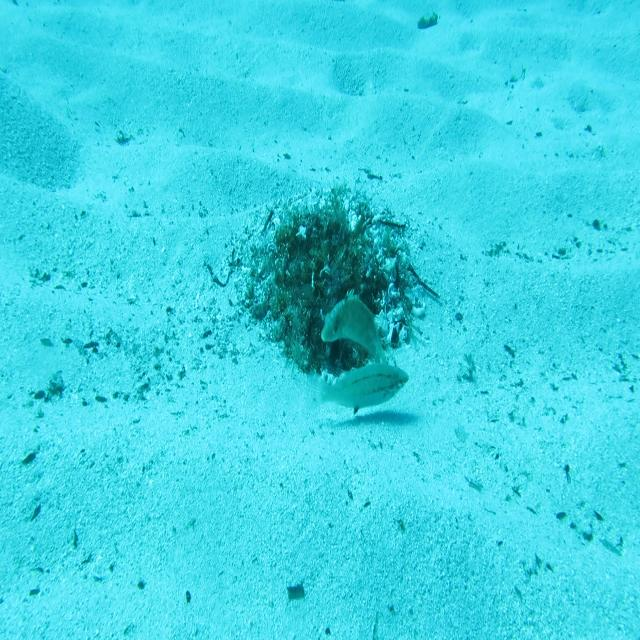BEND: (320, 286, 389, 368)
core_nest: (303, 219, 349, 267)
female: (302, 360, 411, 419)
nest: (225, 175, 434, 402)
vegetation: (416, 10, 440, 33), (286, 580, 307, 602)
